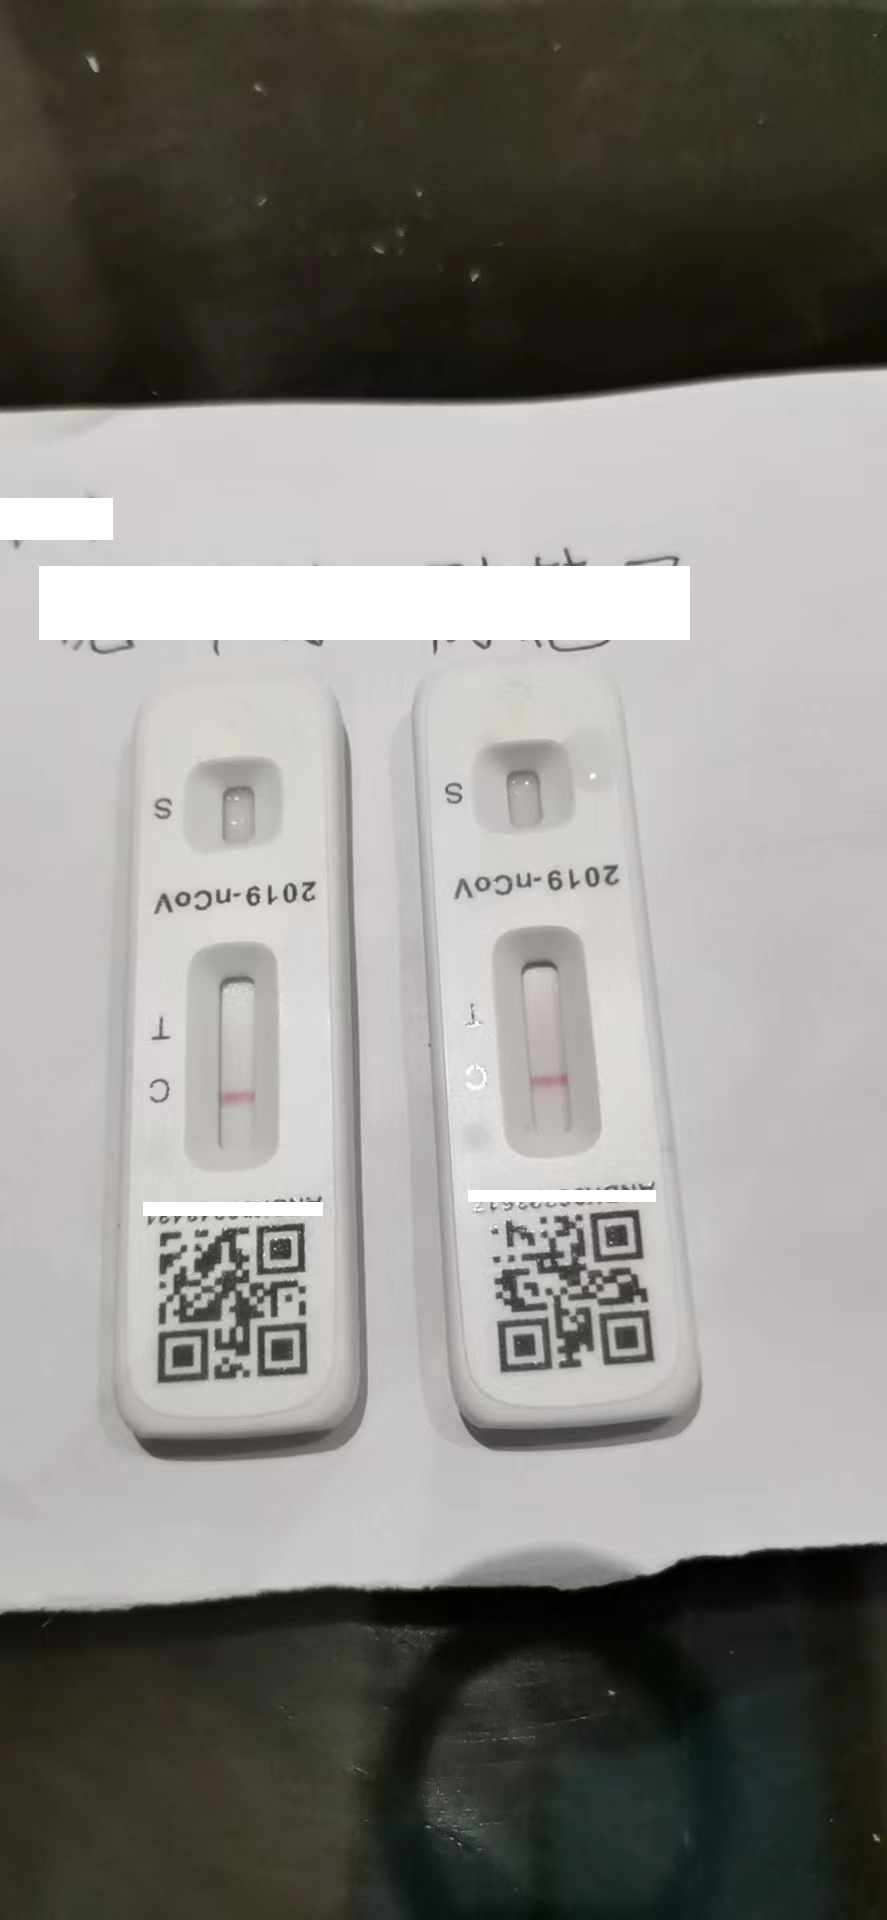negative: (494, 931, 606, 1164), (183, 945, 282, 1176)
